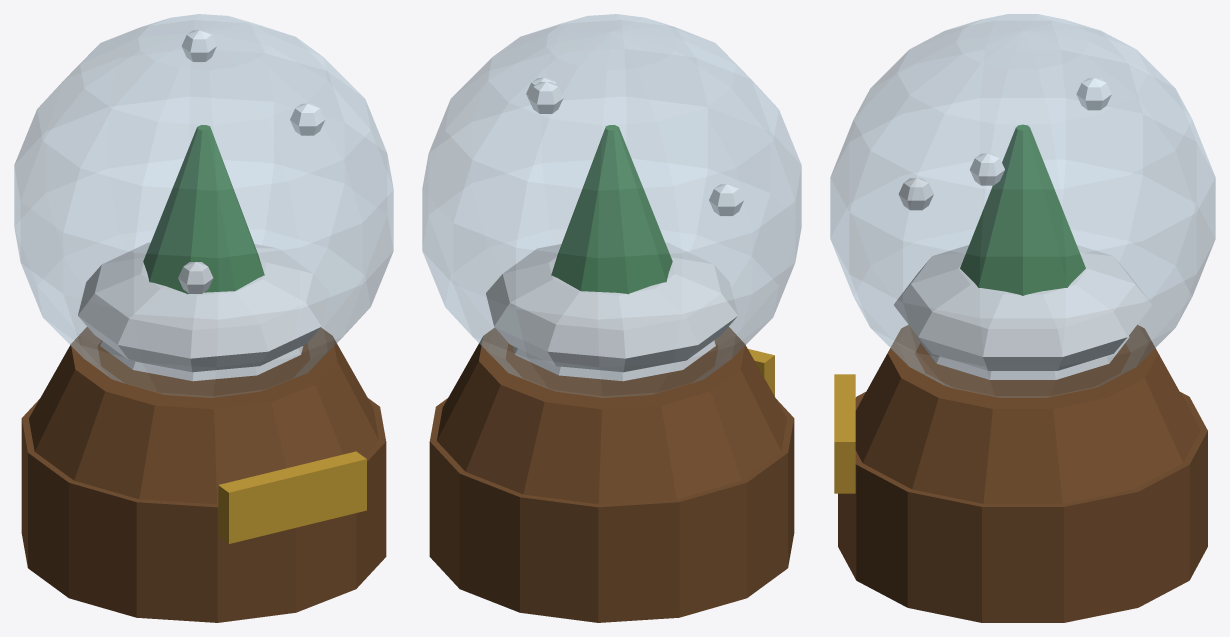
The model's file is snowglobe.glb.
3 views of the same model, side by side, from view 1: azimuth 30°, elevation 25°; view 2: azimuth 150°, elevation 25°; view 3: azimuth 270°, elevation 25° (orthographic).
Visible parts, largest first — view 1: snowglobe; view 2: snowglobe; view 3: snowglobe.
Part boxes in pixels (x1=…): snowglobe: x1=14, y1=14, x2=393, y2=622; snowglobe: x1=422, y1=14, x2=801, y2=622; snowglobe: x1=830, y1=14, x2=1215, y2=622.
Bounding box in the file's own units: 0.1056 × 0.16 × 0.1083.
